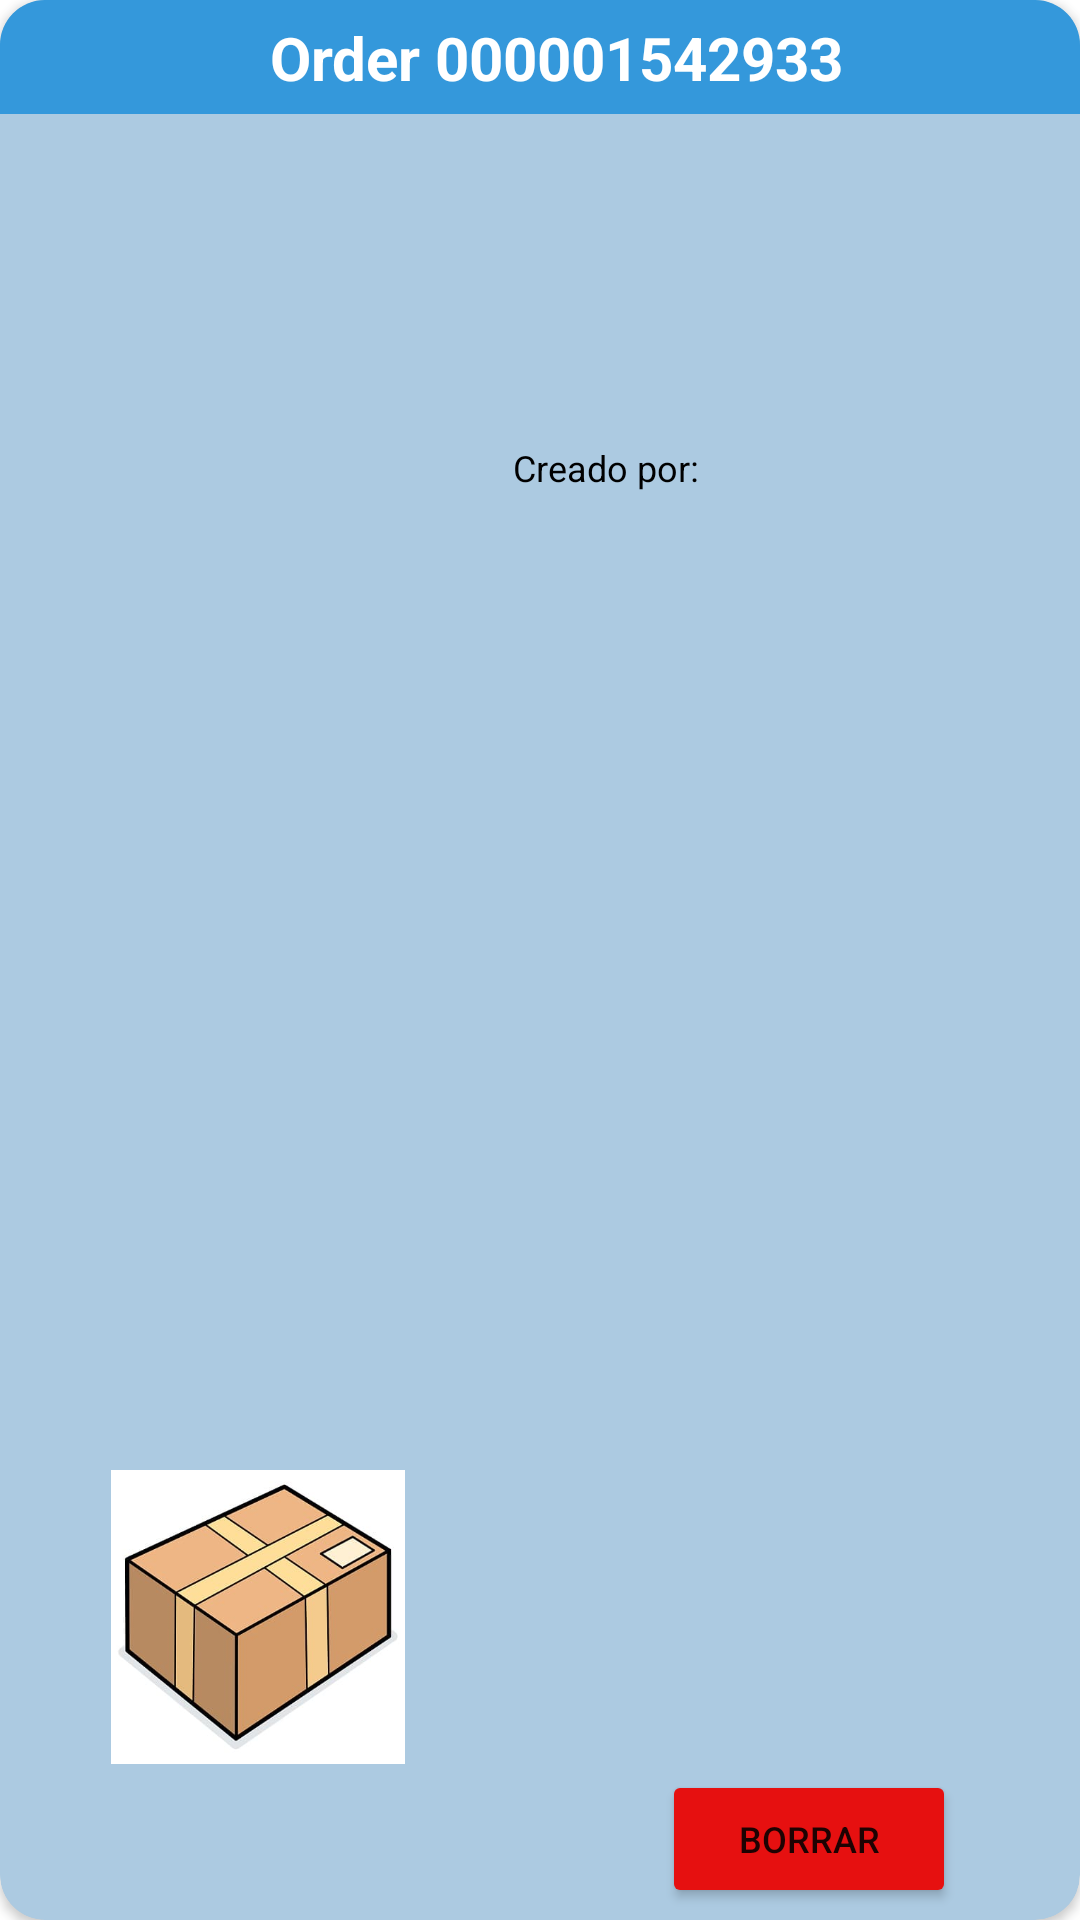

Point at icon controls on the screen. Image size 1080x1920, points as (x,y).
cajaaaa: (258,1617)
